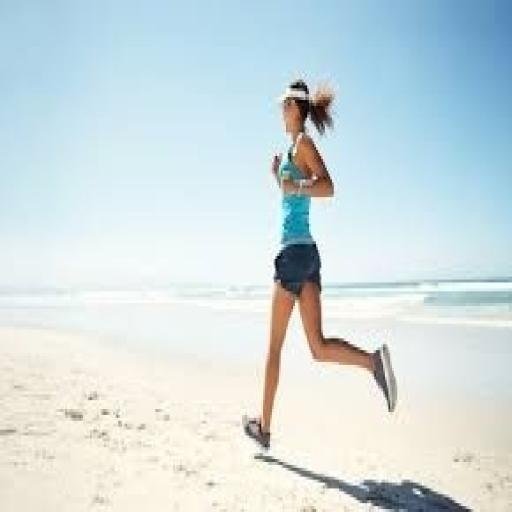running: (240, 74, 401, 453)
